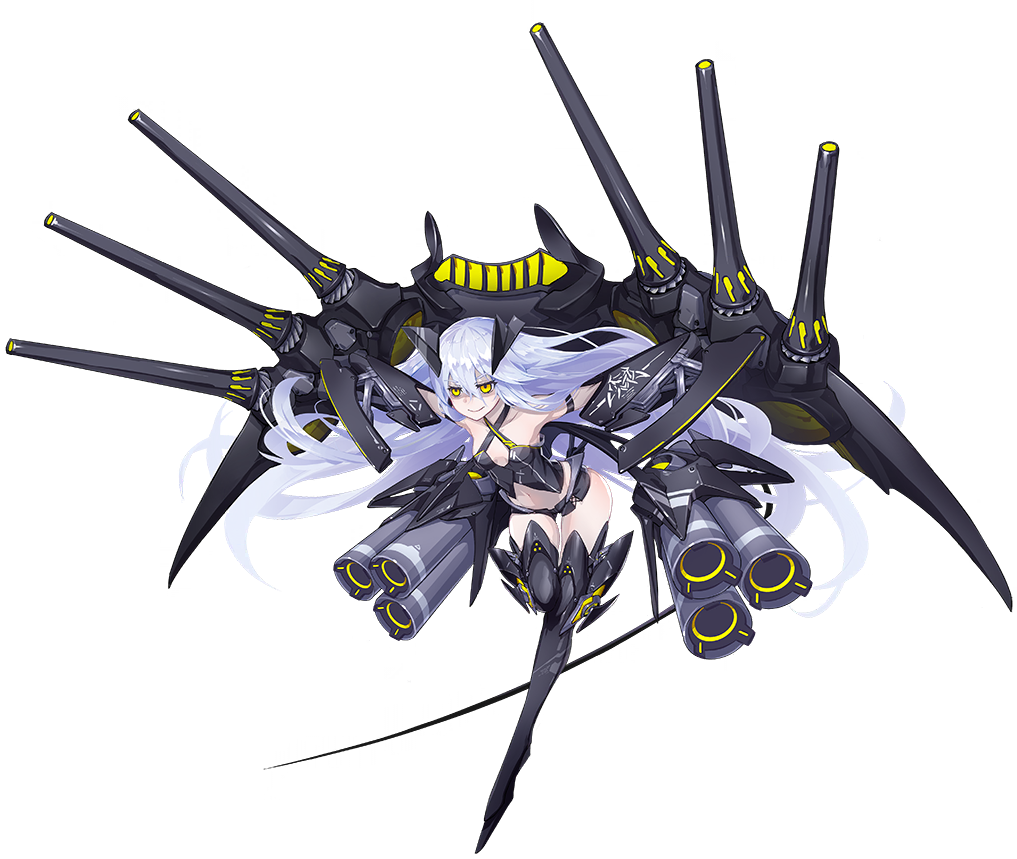person: (333, 203, 800, 838)
